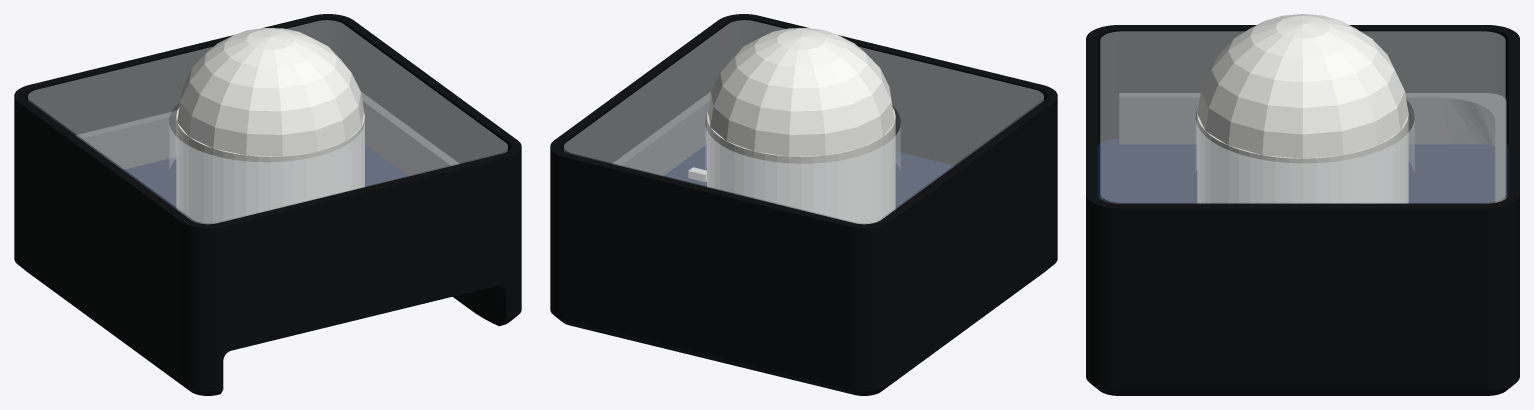
File: pir.glb
3 views of the same model, side by side, from view 1: azimuth 30°, elevation 25°; view 2: azimuth 150°, elevation 25°; view 3: azimuth 270°, elevation 25° (orthographic). The views are drawn at different scales.
Parts seen in each view (by area): view 1: black, glass, derived_lens_dome, derived_lens_collar, grey, pcb; view 2: black, glass, derived_lens_dome, derived_lens_collar, grey, pcb; view 3: black, glass, derived_lens_dome, derived_lens_collar, pcb, grey.
Boxes of the visible parts, x1=… form: black: x1=14, y1=14, x2=521, y2=395; glass: x1=28, y1=20, x2=507, y2=223; derived_lens_dome: x1=177, y1=28, x2=363, y2=156; derived_lens_collar: x1=176, y1=107, x2=364, y2=224; grey: x1=75, y1=92, x2=459, y2=176; pcb: x1=123, y1=144, x2=408, y2=208; black: x1=550, y1=14, x2=1057, y2=395; glass: x1=564, y1=20, x2=1043, y2=223; derived_lens_dome: x1=708, y1=28, x2=894, y2=156; derived_lens_collar: x1=707, y1=107, x2=895, y2=224; grey: x1=612, y1=92, x2=710, y2=176; pcb: x1=663, y1=145, x2=954, y2=208; black: x1=1086, y1=25, x2=1519, y2=395; glass: x1=1100, y1=31, x2=1505, y2=203; derived_lens_dome: x1=1197, y1=14, x2=1408, y2=158; derived_lens_collar: x1=1197, y1=108, x2=1408, y2=203; pcb: x1=1097, y1=138, x2=1508, y2=203; grey: x1=1119, y1=93, x2=1506, y2=202.
Bounding box in the file's own units: 0.0195 × 0.0142 × 0.0195.
